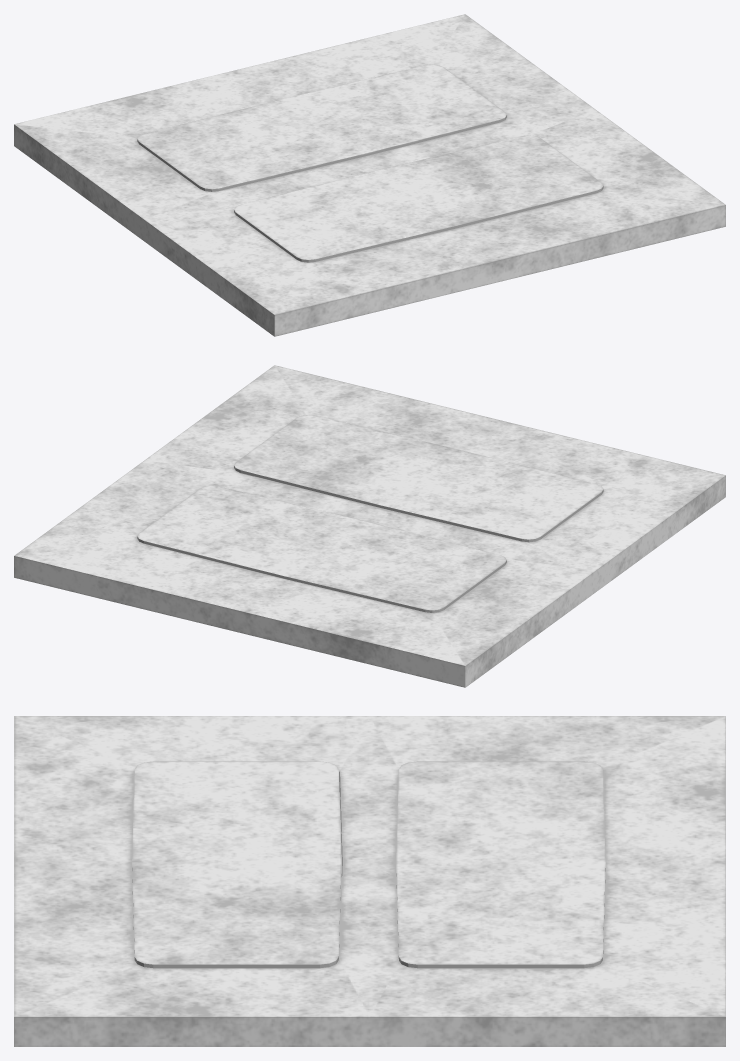
The model's file is Modular_Dungeon_Floor_basic.fbx.
3 views of the same model, one above another, from view 1: azimuth 30°, elevation 25°; view 2: azimuth 150°, elevation 25°; view 3: azimuth 270°, elevation 25° (orthographic). The views are drawn at different scales.
Parts seen in each view (by area): view 1: Bodenplatte_Lo; view 2: Bodenplatte_Lo; view 3: Bodenplatte_Lo.
Part boxes in pixels (x1,y1,x2,y2): Bodenplatte_Lo: [14, 14, 725, 336]; Bodenplatte_Lo: [14, 365, 725, 687]; Bodenplatte_Lo: [14, 716, 725, 1046].
Bounding box in the file's own units: 280 × 14.48 × 280.
